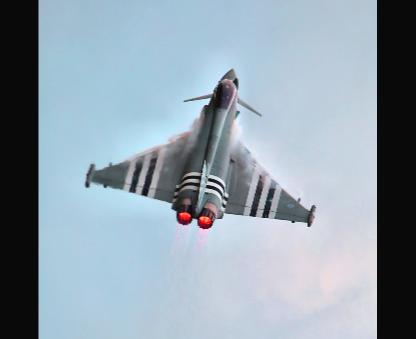E2: (84, 68, 316, 229)
